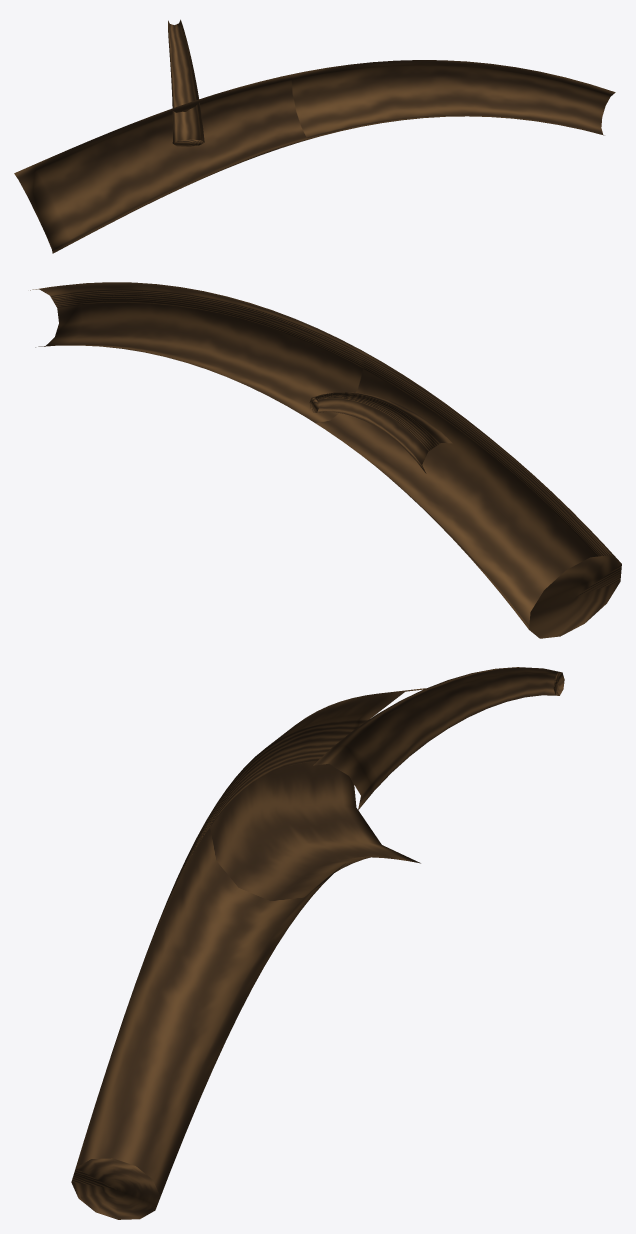
The model's file is wd_v0_driftwood.glb.
3 views of the same model, one above another, from view 1: azimuth 30°, elevation 25°; view 2: azimuth 150°, elevation 25°; view 3: azimuth 270°, elevation 25° (orthographic). The views are drawn at different scales.
Visible parts, largest first — view 1: wd_v0_driftwood; view 2: wd_v0_driftwood; view 3: wd_v0_driftwood.
Boxes of the visible parts, x1,y1,x2,y2 form: wd_v0_driftwood: [14, 19, 615, 253]; wd_v0_driftwood: [30, 282, 621, 638]; wd_v0_driftwood: [71, 667, 564, 1219].
Bounding box in the file's own units: 0.3811 × 0.1188 × 0.1543.
Materials: 1 (1 with a texture image).
